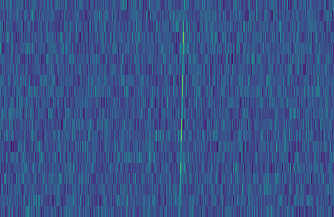signal: (174, 0, 188, 217)
